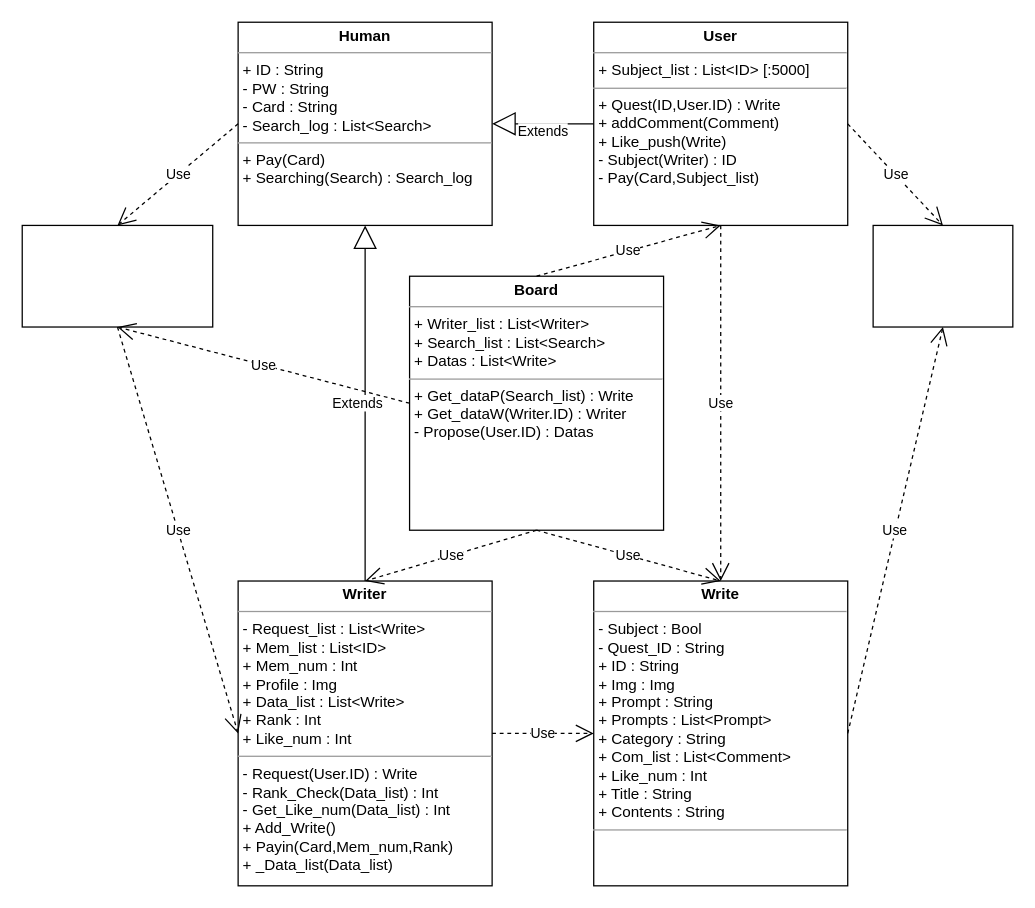
Some shapes in this 1035 by 908 pixel diagram are drawn without their labels. The box of each missing label's shape, as (x1, y1, x2, y2) in pixels:
Comment + ID : String + Data : String: (872, 224, 1013, 327)
Search + Prompt : String + Prompts : List<Prompt> + Writer_ID : Writer: (21, 224, 213, 327)
